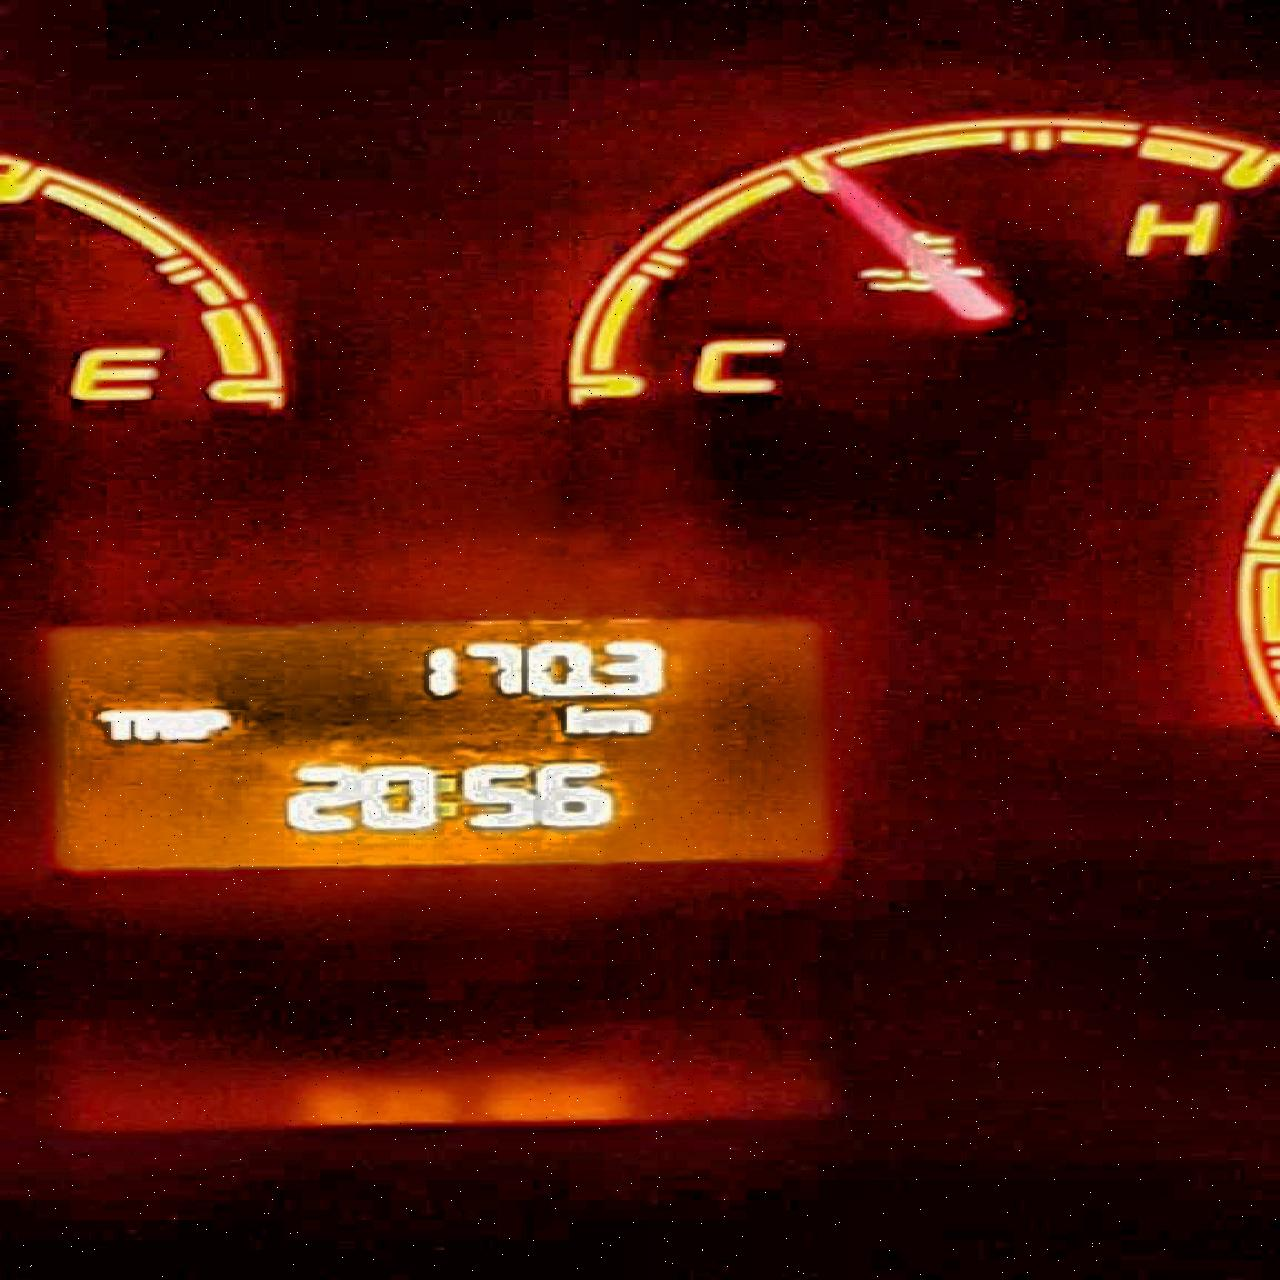-: (585, 679, 605, 697)
0: (362, 760, 431, 830), (523, 638, 587, 697)
1: (420, 644, 458, 699)
2: (282, 761, 360, 831)
3: (602, 639, 667, 696)
5: (459, 761, 533, 828)
6: (536, 758, 620, 828)
7: (464, 639, 523, 696)
X: (591, 707, 660, 738), (191, 703, 231, 741), (131, 708, 171, 741), (95, 708, 134, 741), (434, 771, 456, 821), (563, 702, 593, 737), (173, 707, 186, 744)
odometer: (25, 604, 863, 886)
